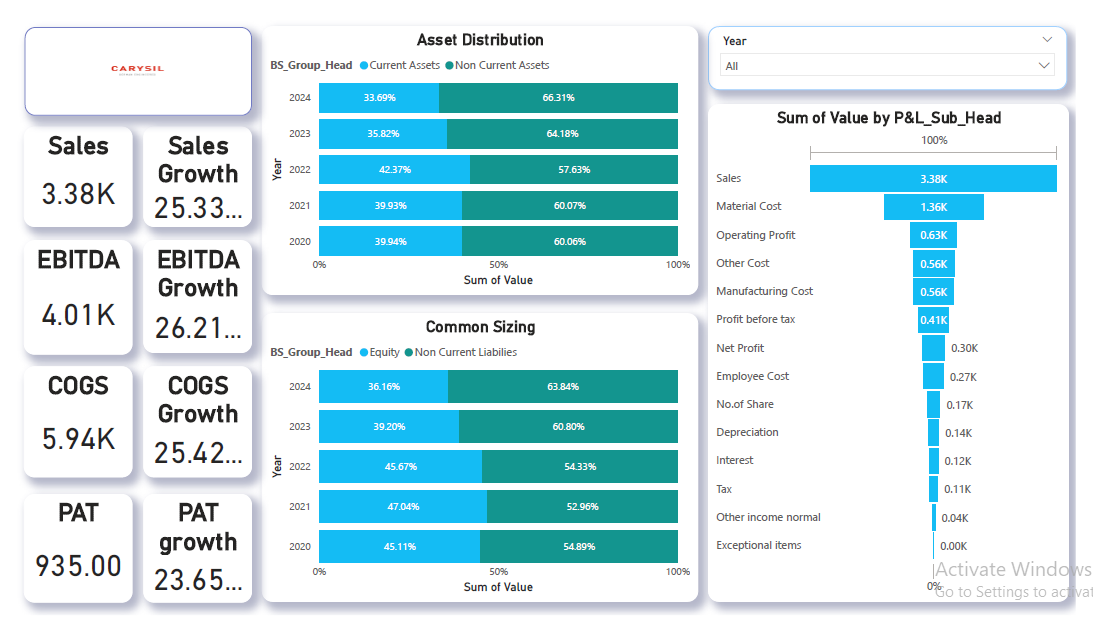

The dashboard page shown, as its layout file describes it:
{"tool":"powerbi","page":{"name":"Summary","canvas":[1280,720],"ordinal":0},"visuals":[{"type":"slicer","fields":{"Values":["Date Dim.Year"]},"box":[836.5,10.1,433.4,77.3],"z":0},{"type":"hundredPercentStackedBarChart","title":"Asset Distribution","fields":{"Category":["Date Dim.Date.Variation.Date Hierarchy.Year"],"Y":["Sum(BS Fact.Value)"],"Series":["BS Fact.BS_Group_Head"]},"box":[299,10.1,525.8,324.2],"z":1000},{"type":"hundredPercentStackedBarChart","title":"Common Sizing","fields":{"Category":["Date Dim.Date.Variation.Date Hierarchy.Year"],"Y":["Sum(BS Fact.Value)"],"Series":["BS Fact.BS_Group_Head"]},"box":[299,356.1,525.8,347.7],"z":2000},{"type":"funnel","fields":{"Category":["P&L Dim.P&L_Sub_Head"],"Y":["Sum(P&L Fact.Value)"]},"box":[836.5,104.1,435.1,599.7],"z":3000},{"type":"card","title":"Sales","fields":{"Values":["Sum(P&L Fact.Value)"]},"box":[12.2,131.1,131.1,120.7],"z":4000},{"type":"card","title":"EBITDA","fields":{"Values":["Sum(P&L Fact.Value)"]},"box":[12.2,267.5,131.1,138.1],"z":5000},{"type":"card","title":"COGS","fields":{"Values":["Sum(P&L Fact.Value)"]},"box":[12.2,419.7,131.1,134.6],"z":6000},{"type":"card","title":"PAT","fields":{"Values":["Sum(P&L Fact.Value)"]},"box":[12.2,573.6,131.1,131.1],"z":7000},{"type":"card","title":"Sales Growth","fields":{"Values":["P&L Fact.% Change"]},"box":[155.6,131.1,131.1,120.7],"z":8000},{"type":"card","title":"EBITDA Growth","fields":{"Values":["P&L Fact.% Change"]},"box":[155.6,267.5,131.1,136.4],"z":9000},{"type":"card","title":"COGS Growth","fields":{"Values":["P&L Fact.% Change"]},"box":[155.6,419.7,131.1,134.6],"z":10000},{"type":"card","title":"PAT growth","fields":{"Values":["P&L Fact.% Change"]},"box":[155.6,573.6,131.1,131.1],"z":11000},{"type":"image","box":[12.7,10.9,274.2,107.1],"z":11001}]}

Visuals, with their boxes on the page's 1280x720 design canvas (x1, y1, x2, y2). These are canvas units, not pixel positions in the 1093x628 screenshot, which may show the page scaled, cropped or inside an application window:
slicer - Date Dim.Year: (left=836, top=10, right=1270, bottom=87)
"Asset Distribution" hundredPercentStackedBarChart: (left=299, top=10, right=825, bottom=334)
"Common Sizing" hundredPercentStackedBarChart: (left=299, top=356, right=825, bottom=704)
funnel - P&L Dim.P&L_Sub_Head x Sum(P&L Fact.Value): (left=836, top=104, right=1272, bottom=704)
"Sales" card: (left=12, top=131, right=143, bottom=252)
"EBITDA" card: (left=12, top=268, right=143, bottom=406)
"COGS" card: (left=12, top=420, right=143, bottom=554)
"PAT" card: (left=12, top=574, right=143, bottom=705)
"Sales Growth" card: (left=156, top=131, right=287, bottom=252)
"EBITDA Growth" card: (left=156, top=268, right=287, bottom=404)
"COGS Growth" card: (left=156, top=420, right=287, bottom=554)
"PAT growth" card: (left=156, top=574, right=287, bottom=705)
image: (left=13, top=11, right=287, bottom=118)
